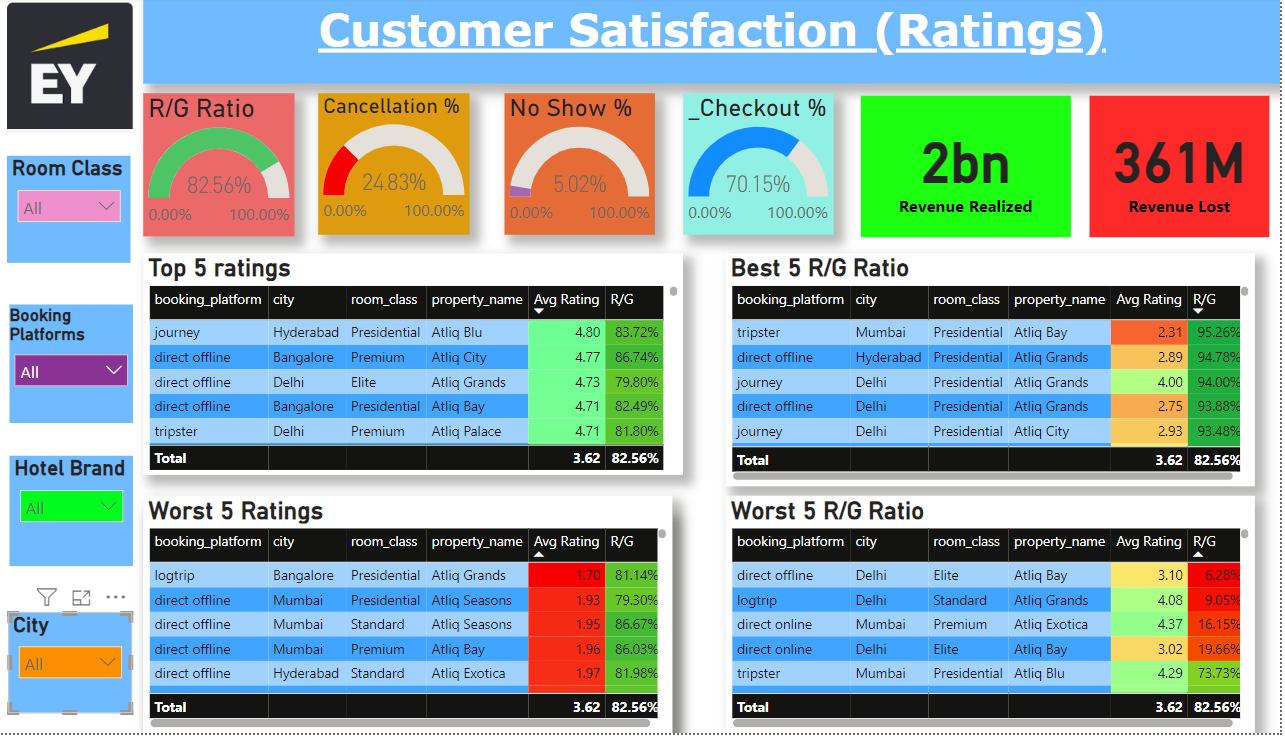

The dashboard page shown, as its layout file describes it:
{"tool":"powerbi","page":{"name":"Customer Satisfaction (Ratings)","canvas":[1280,720],"ordinal":7},"visuals":[{"type":"textbox","box":[167.6,0,1112.7,84.4],"z":0},{"type":"tableEx","title":"Worst R/G Ratio Hotels","fields":{"Values":["fact_bookings.booking_platform","dim_hotels.city","dim_rooms.room_class","dim_hotels.property_name","fact_bookings._Average Ratings","fact_bookings._Realised_to_Generated_ratio"]},"box":[167.4,503.6,517.3,216.8],"z":1000},{"type":"image","box":[0,0,191.5,137.8],"z":3000},{"type":"gauge","title":"R/G Ratio","fields":{"Y":["fact_bookings.Profit"]},"box":[167.4,94.7,148.2,140],"z":4000},{"type":"gauge","fields":{"Y":["fact_bookings._Booking Cancellation %"]},"box":[338.9,94.7,148.2,138.6],"z":5000},{"type":"gauge","fields":{"Y":["fact_bookings._No Show %"]},"box":[521.4,94.7,146.8,138.6],"z":6000},{"type":"gauge","fields":{"Y":["fact_bookings._Checkout %"]},"box":[695.7,94.7,146.8,138.6],"z":7000},{"type":"tableEx","title":"Worst 5 Ratings","fields":{"Values":["fact_bookings.booking_platform","dim_hotels.city","dim_rooms.room_class","dim_hotels.property_name","fact_bookings._Average Ratings","fact_bookings._Realised_to_Generated_ratio"]},"box":[167.4,488.5,517.3,231.9],"z":8000},{"type":"tableEx","title":"Top 5 ratings","fields":{"Values":["fact_bookings.booking_platform","dim_hotels.city","dim_rooms.room_class","dim_hotels.property_name","fact_bookings._Average Ratings","fact_bookings._Realised_to_Generated_ratio"]},"box":[167.4,251.1,528.3,216.8],"z":9000},{"type":"tableEx","title":"Best 5 R/G Ratio ","fields":{"Values":["fact_bookings.booking_platform","dim_hotels.city","dim_rooms.room_class","dim_hotels.property_name","fact_bookings._Average Ratings","fact_bookings._Realised_to_Generated_ratio"]},"box":[736.9,251.1,517.3,227.8],"z":10000},{"type":"tableEx","title":"Worst 5 R/G Ratio","fields":{"Values":["fact_bookings.booking_platform","dim_hotels.city","dim_rooms.room_class","dim_hotels.property_name","fact_bookings._Average Ratings","fact_bookings._Realised_to_Generated_ratio"]},"box":[736.9,488.5,517.3,231.9],"z":11000},{"type":"card","fields":{"Values":["Sum(fact_bookings.revenue_realized)"]},"box":[870,96.1,205.8,138.6],"z":12000},{"type":"card","fields":{"Values":["Sum(fact_bookings.Revenue Lost)"]},"box":[1093.7,96.1,175.6,138.6],"z":13000},{"type":"slicer","title":"Room Class","fields":{"Values":["dim_rooms.room_class"]},"box":[34.2,155.3,121.1,105.2],"z":13001},{"type":"slicer","title":"Booking Platforms","fields":{"Values":["fact_bookings.booking_platform"]},"box":[36.7,300.8,121.1,116.2],"z":13002},{"type":"slicer","title":"Hotel Brand","fields":{"Values":["dim_hotels.property_name"]},"box":[36.7,448.8,121.1,107.6],"z":13003},{"type":"slicer","title":"City","fields":{"Values":["dim_hotels.city"]},"box":[35.5,601.6,121.1,99],"z":13004}]}

Visuals, with their boxes in screenshot pixels (x1, y1, x2, y2), scaled from the page's 1280x720 canvas onto the 1285x740 screenshot:
textbox: [168,0,1284,87]
"Worst R/G Ratio Hotels" tableEx: [168,518,687,739]
image: [0,0,192,142]
"R/G Ratio" gauge: [168,97,317,241]
gauge - fact_bookings._Booking Cancellation %: [340,97,489,240]
gauge - fact_bookings._No Show %: [523,97,671,240]
gauge - fact_bookings._Checkout %: [698,97,846,240]
"Worst 5 Ratings" tableEx: [168,502,687,739]
"Top 5 ratings" tableEx: [168,258,698,481]
"Best 5 R/G Ratio " tableEx: [740,258,1259,492]
"Worst 5 R/G Ratio" tableEx: [740,502,1259,739]
card - Sum(fact_bookings.revenue_realized): [873,99,1080,241]
card - Sum(fact_bookings.Revenue Lost): [1098,99,1274,241]
"Room Class" slicer: [34,160,156,268]
"Booking Platforms" slicer: [37,309,158,429]
"Hotel Brand" slicer: [37,461,158,572]
"City" slicer: [36,618,157,720]
